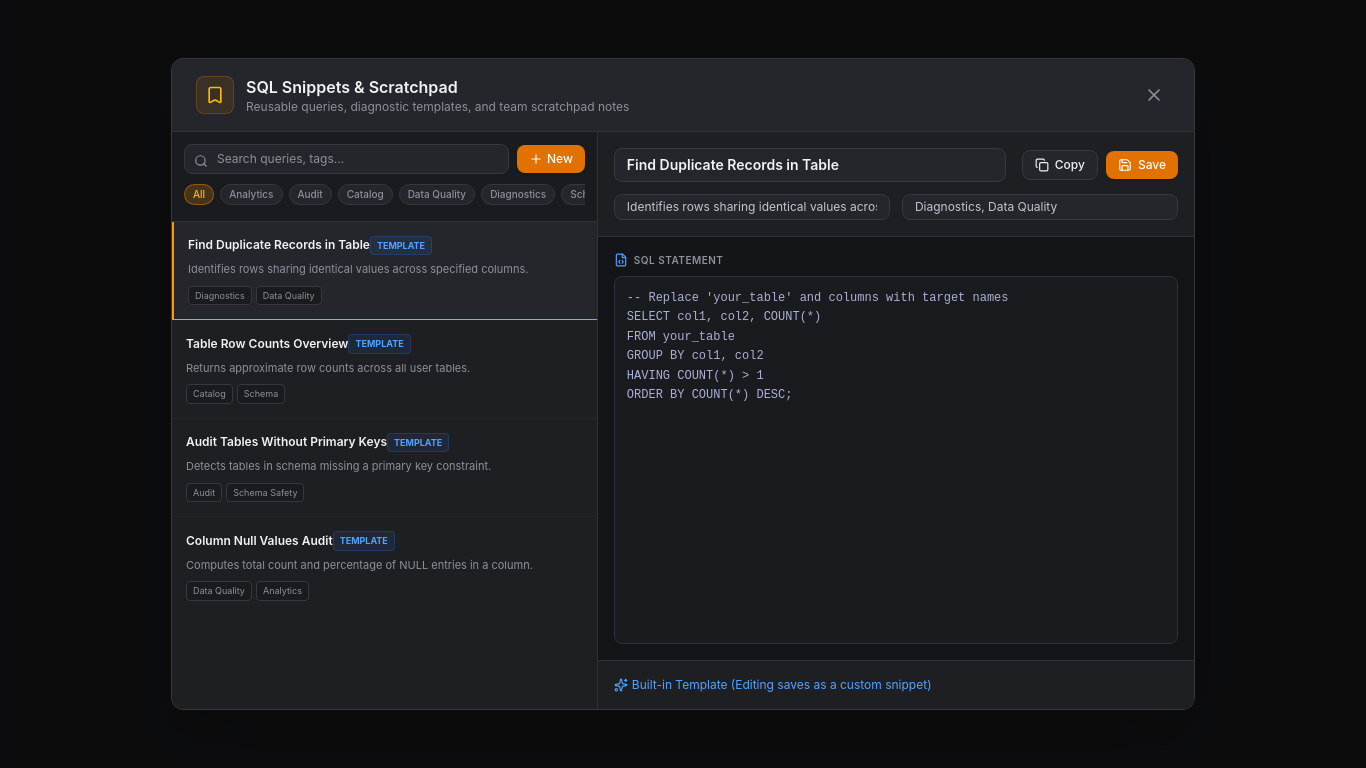
Test: ScratchpadModal component › creates and saves a new custom snippet
Click the button "New". click: {"x": 551, "y": 159}
box: [517,145,585,173]
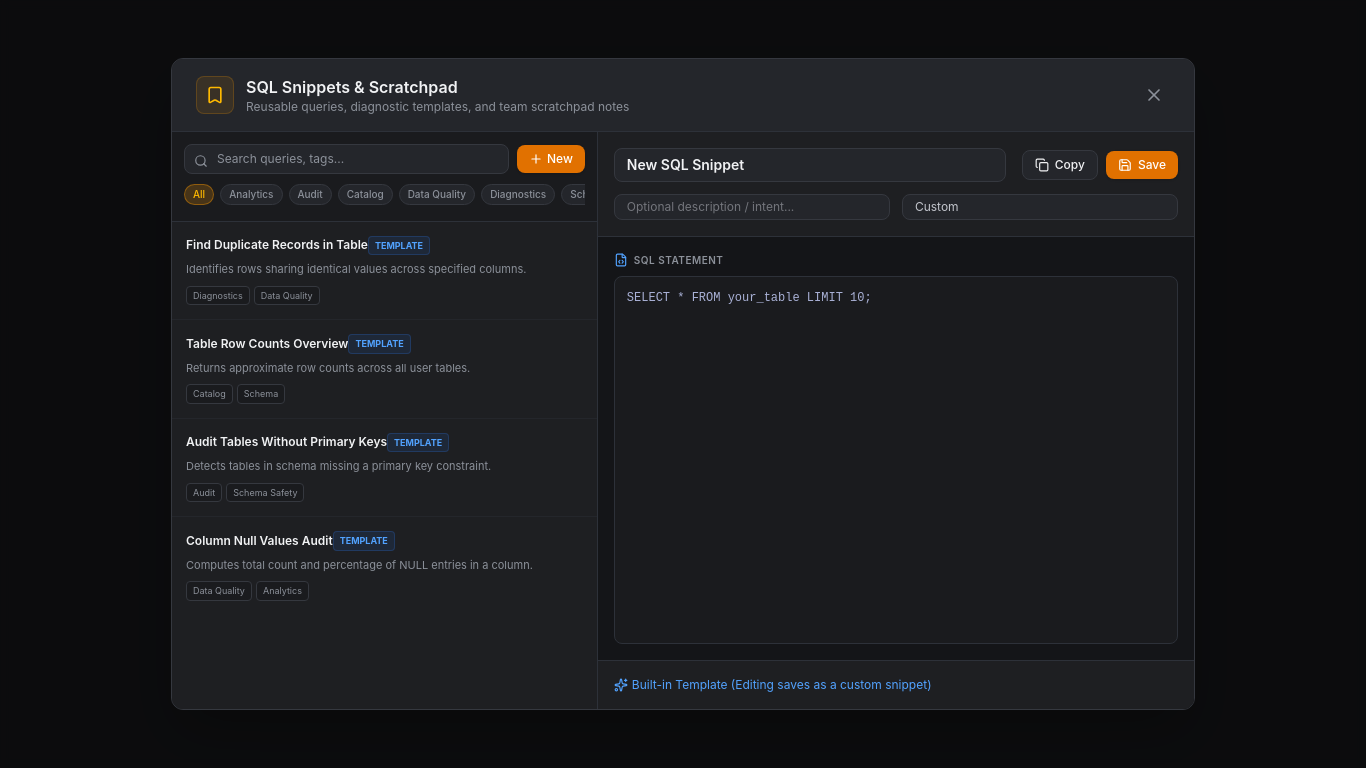
Replace the text in the 1st field with placeholder "Snippet Title..." with "Custom High Value Customers". click: {"x": 810, "y": 165}
box: [614,148,1006,182]
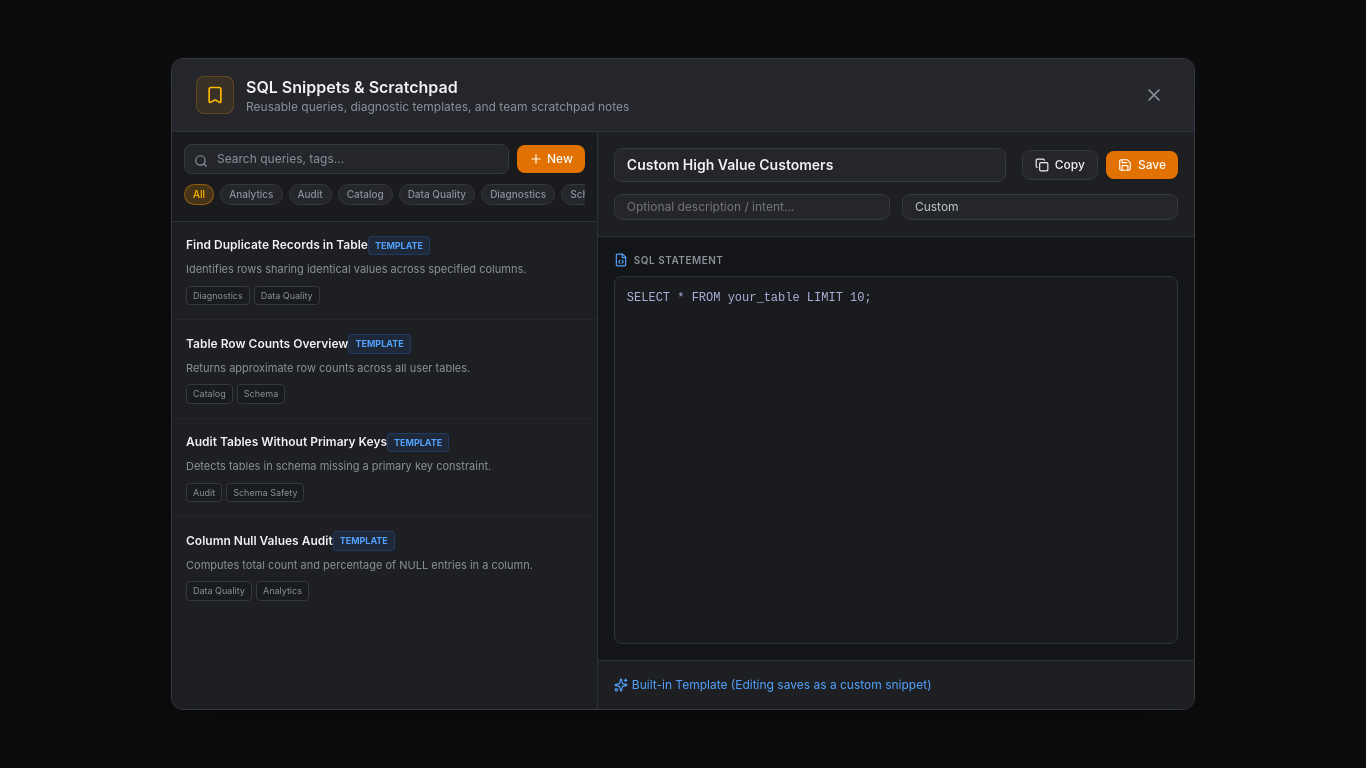
Replace the text in the text box with placeholder "Write your SQL query statement here..." with "SELECT * FROM orders WHERE total > 500;". click: {"x": 896, "y": 460}
box: [614,276,1178,644]
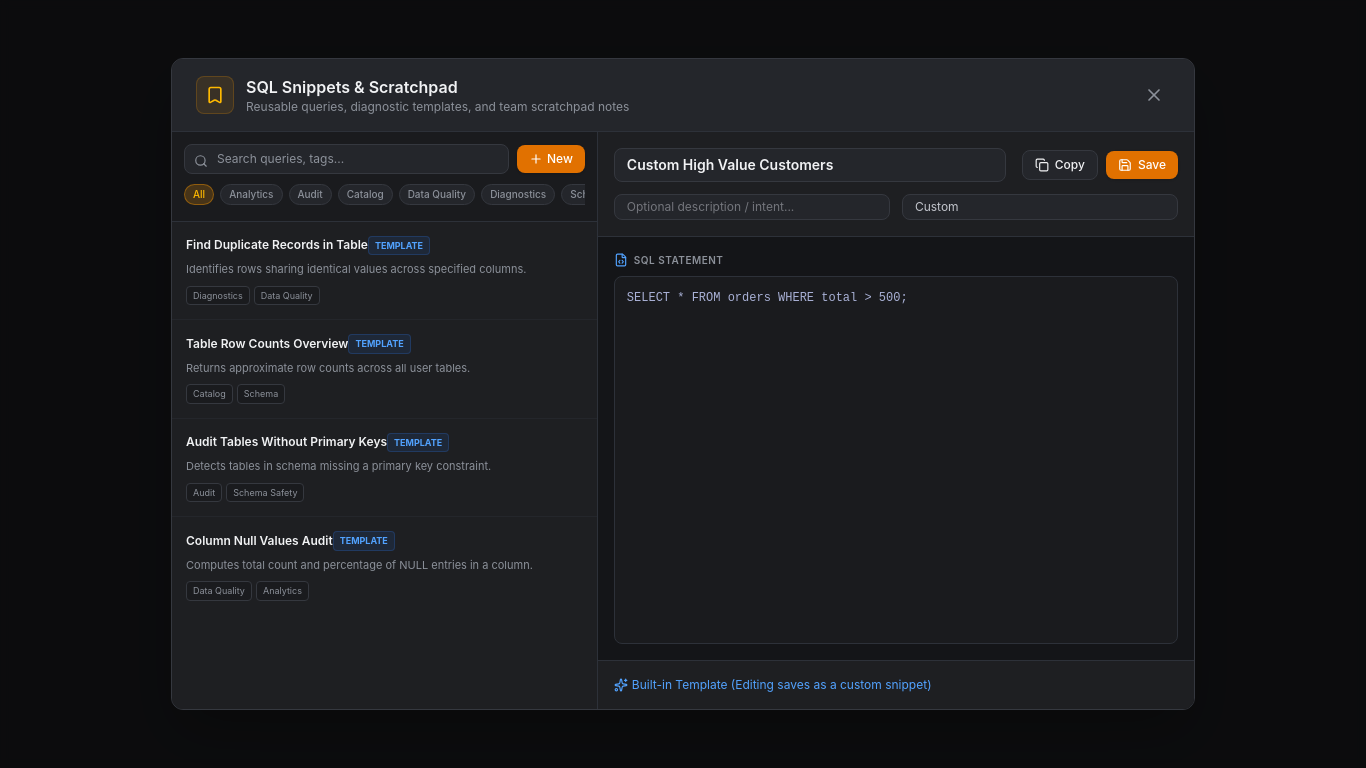
Click the button "Save". click: {"x": 1142, "y": 165}
box: [1106,151,1178,179]
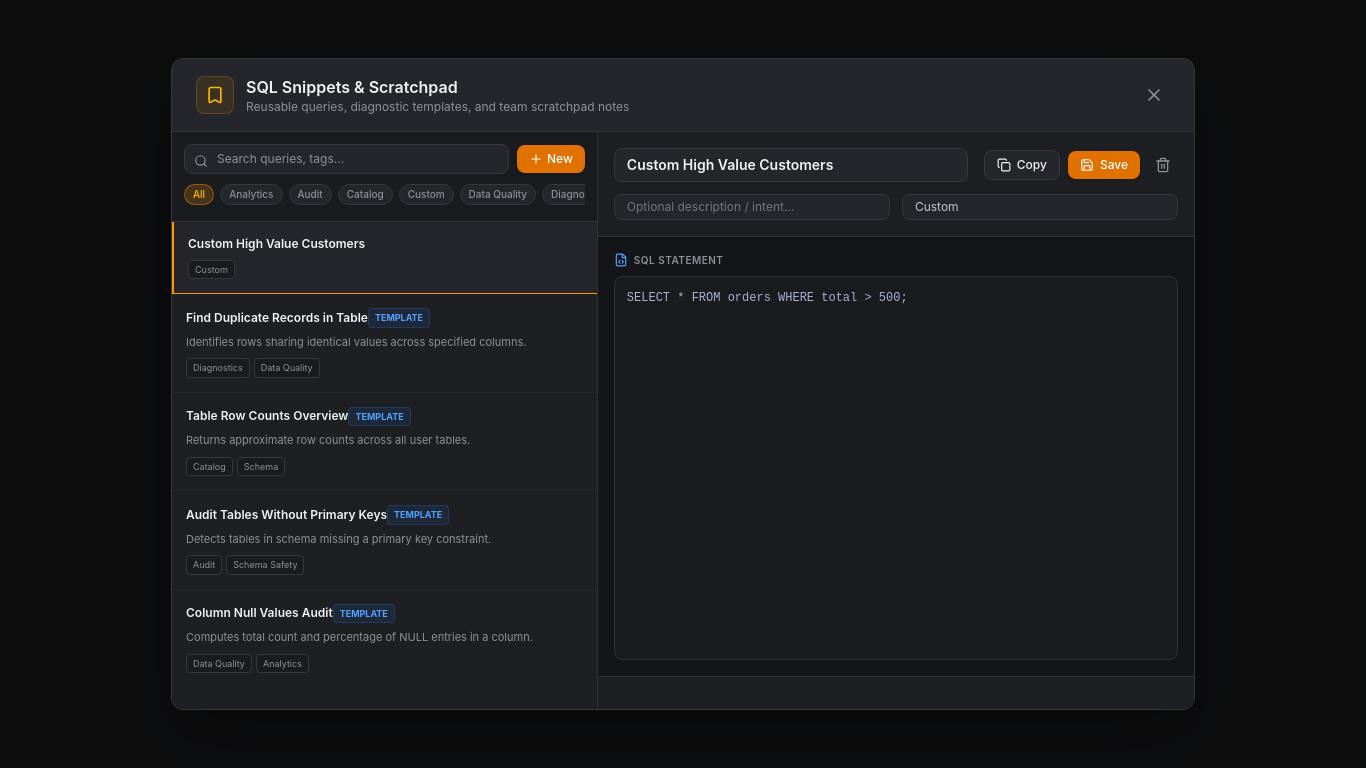
Expected: the text "Custom High Value Customers" is shown, [188,236,365,252]
